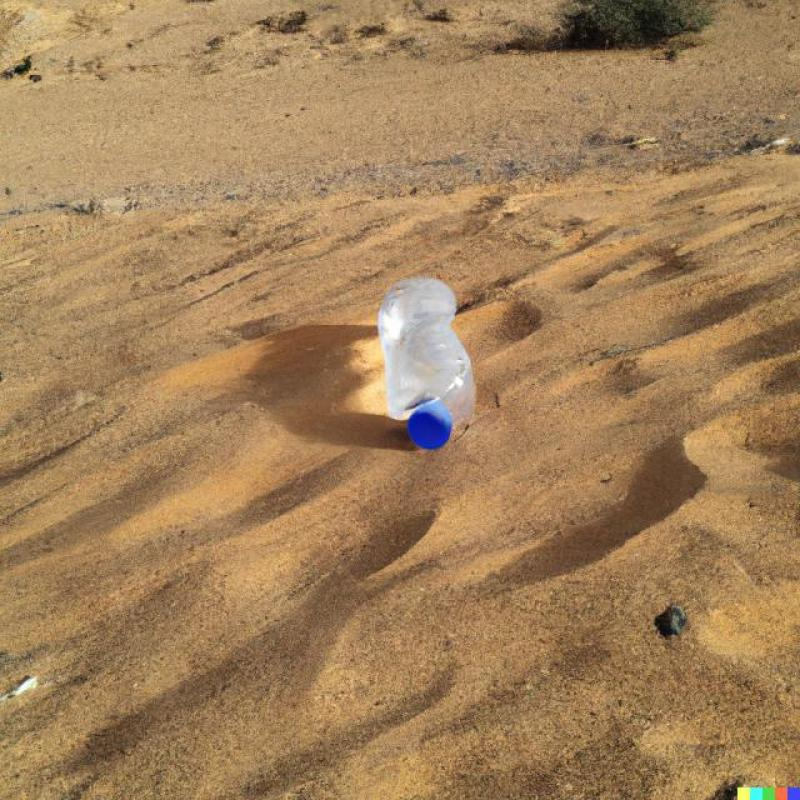botella: (370, 280, 476, 452)
